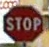stop: (2, 4, 43, 42)
